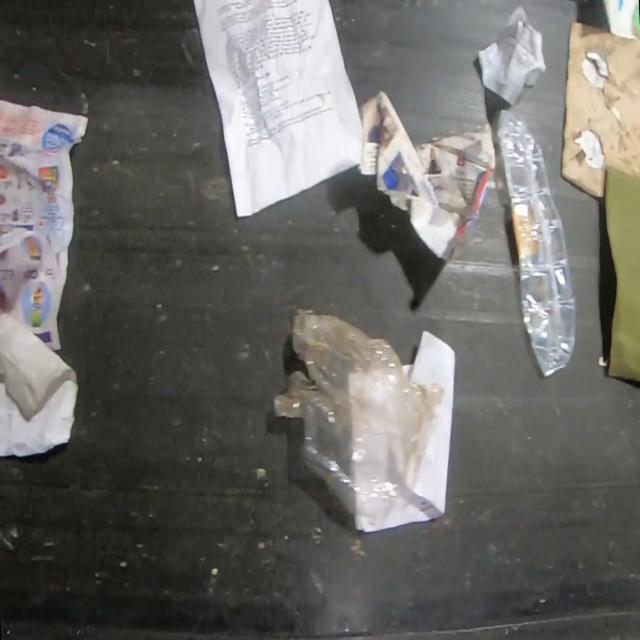cardboard: (560, 20, 640, 201), (604, 165, 640, 381)
rigid_plastic: (497, 108, 577, 378)
soft_plastic: (274, 305, 444, 515)
